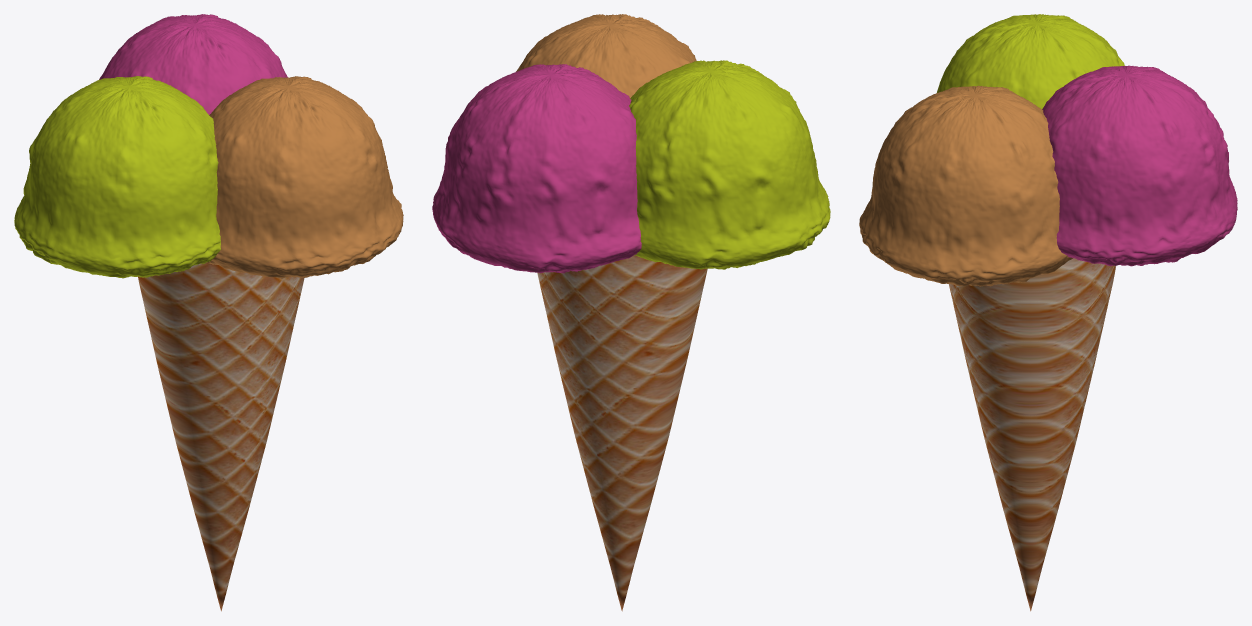
File: 1773125452_cus.glb
The picture shows the model from 3 angles, left to right: view 1: azimuth 30°, elevation 25°; view 2: azimuth 150°, elevation 25°; view 3: azimuth 270°, elevation 25°; orthographic projection. The views are drawn at different scales.
Parts seen in each view (by area): view 1: Cylinder, Cylinder_Material.003_0.002, Cylinder_Material.003_0.001; view 2: Cylinder, Cylinder_Material.003_0.001, Cylinder_Material.003_0.002; view 3: Cylinder, Cylinder_Material.003_0.001, Cylinder_Material.003_0.002.
Part boxes in pixels (<box>): Cylinder: <box>138,76,403,611</box>; Cylinder_Material.003_0.002: <box>14,76,220,278</box>; Cylinder_Material.003_0.001: <box>99,14,287,114</box>; Cylinder: <box>516,14,707,611</box>; Cylinder_Material.003_0.001: <box>432,64,641,273</box>; Cylinder_Material.003_0.002: <box>629,60,830,269</box>; Cylinder: <box>859,85,1115,611</box>; Cylinder_Material.003_0.001: <box>1042,65,1237,266</box>; Cylinder_Material.003_0.002: <box>937,14,1124,108</box>.
Size of the model in its own units: 366 by 581 by 364.
4 materials, 1 textured.
